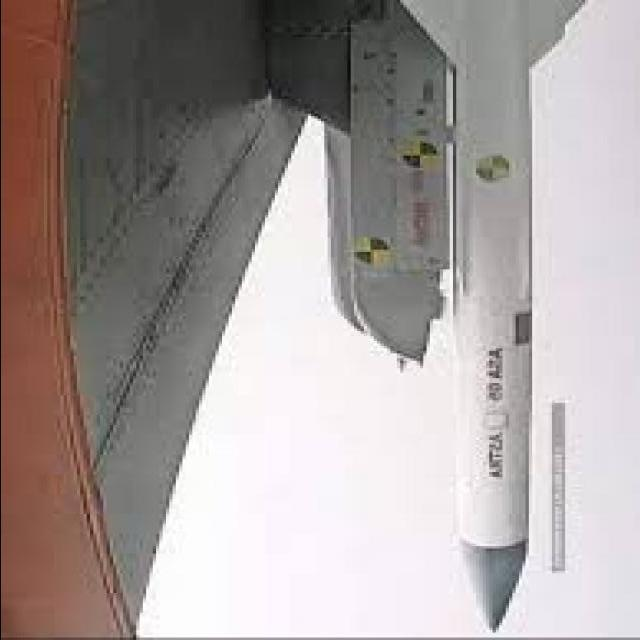missile: (398, 0, 578, 640), (426, 60, 540, 640)
